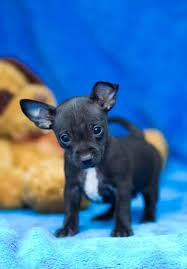chihuahua: (20, 81, 160, 237)
